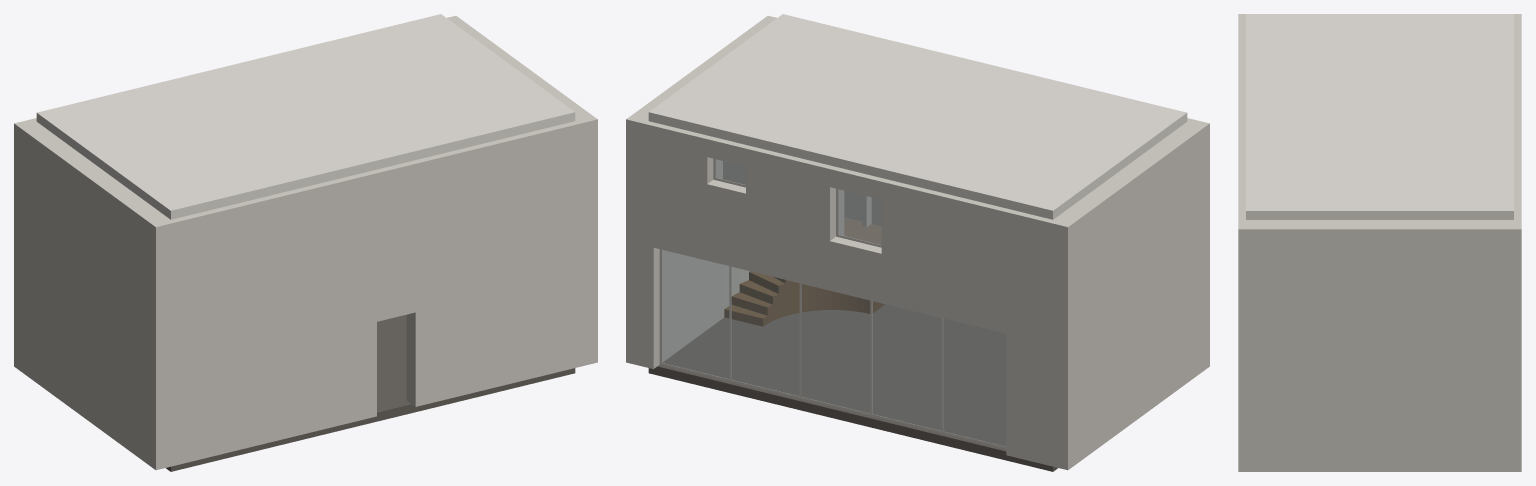
Rendered from House_Shell.fbx.
The picture shows the model from 3 angles, left to right: view 1: azimuth 30°, elevation 25°; view 2: azimuth 150°, elevation 25°; view 3: azimuth 270°, elevation 25°; orthographic projection.
Parts seen in each view (by area): view 1: House_Walls, House_Roof, House_Floor_G; view 2: House_Walls, House_Roof, House_Glass, House_Floor_G, House_Stairs, House_Floor_1; view 3: House_Walls, House_Roof.
Boxes of the visible parts, x1=… form: House_Walls: x1=14, y1=15, x2=597, y2=470; House_Roof: x1=36, y1=14, x2=575, y2=219; House_Floor_G: x1=166, y1=314, x2=575, y2=471; House_Walls: x1=626, y1=15, x2=1209, y2=470; House_Roof: x1=648, y1=14, x2=1187, y2=219; House_Glass: x1=662, y1=159, x2=1005, y2=446; House_Floor_G: x1=648, y1=304, x2=1057, y2=471; House_Stairs: x1=724, y1=271, x2=884, y2=326; House_Floor_1: x1=844, y1=217, x2=881, y2=244; House_Walls: x1=1238, y1=14, x2=1521, y2=471; House_Roof: x1=1246, y1=14, x2=1513, y2=219.
Size of the model in its own units: 10.27 by 5.8 by 5.71.
